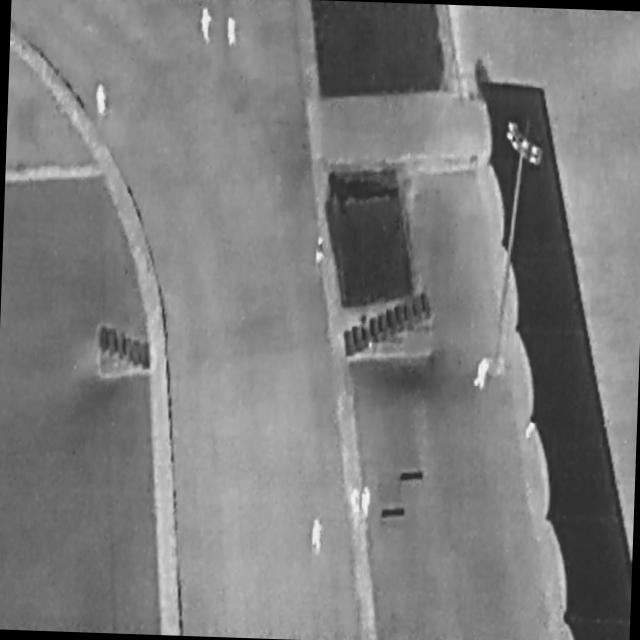person: (196, 7, 215, 44), (474, 358, 490, 394), (93, 82, 107, 115), (311, 520, 325, 550), (226, 18, 238, 46), (314, 237, 326, 265), (351, 488, 361, 517), (362, 484, 370, 519)
